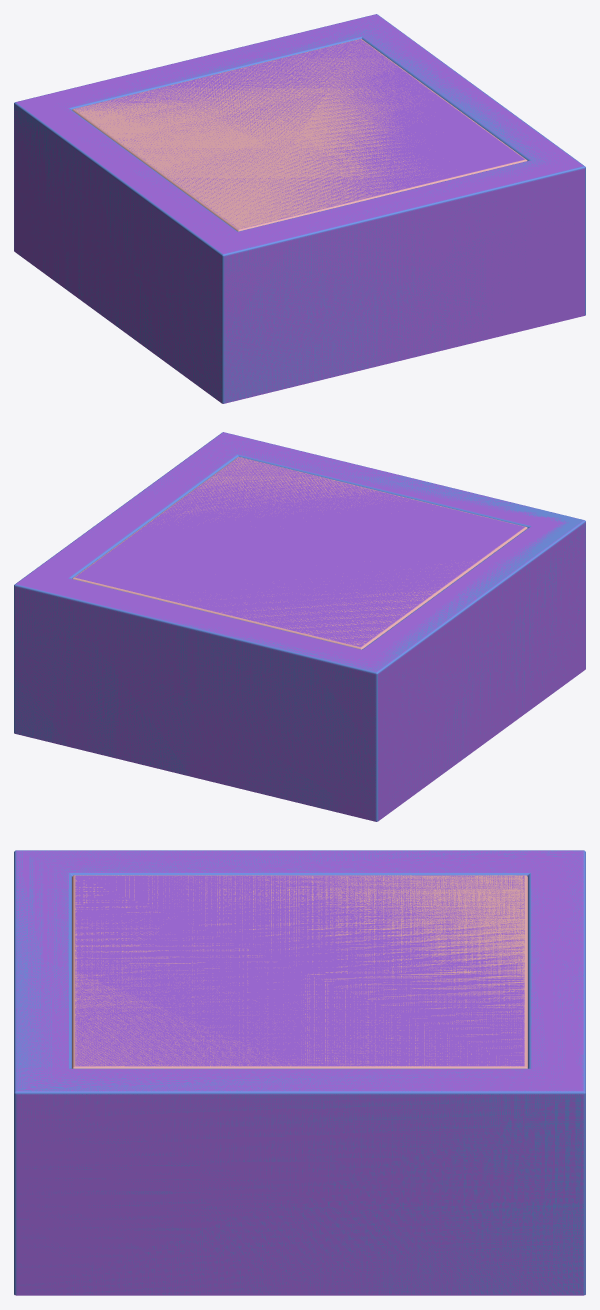
Rendered from RM Mini-platform.fbx.
3 renders of one model, top to bottom at view 1: azimuth 30°, elevation 25°; view 2: azimuth 150°, elevation 25°; view 3: azimuth 270°, elevation 25°, orthographic. The views are drawn at different scales.
Visible parts, largest first — view 1: Mini-platform_PHYS, Mini-platform_LOD0; view 2: Mini-platform_PHYS, Mini-platform_LOD0; view 3: Mini-platform_PHYS, Mini-platform_LOD0.
Boxes of the visible parts, <box> form: Mini-platform_PHYS: <box>14,14,585,403</box>; Mini-platform_LOD0: <box>14,14,585,403</box>; Mini-platform_PHYS: <box>14,432,585,821</box>; Mini-platform_LOD0: <box>14,432,585,821</box>; Mini-platform_PHYS: <box>14,850,585,1295</box>; Mini-platform_LOD0: <box>14,850,585,1294</box>.
Size of what is drawn, in the model's own units: 384 by 150 by 383.
